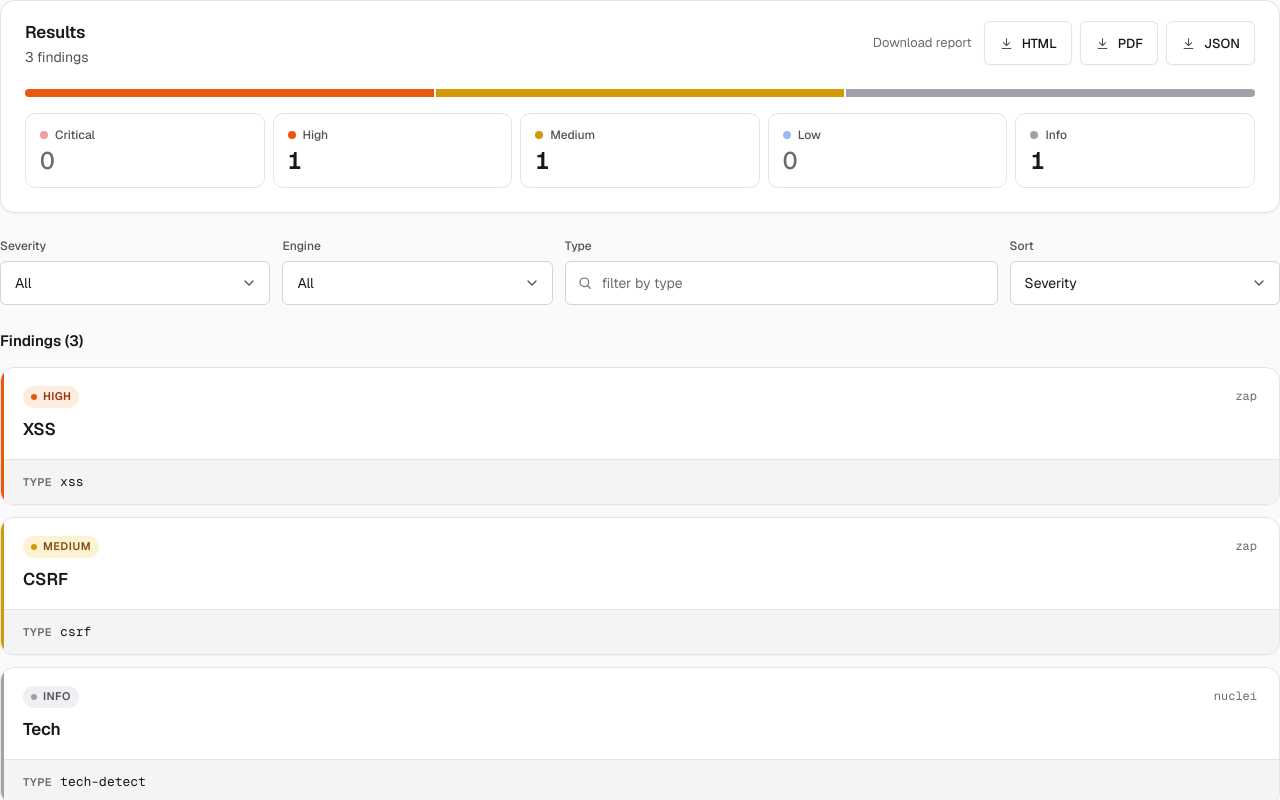
Scenario: ResultsDashboard › filters findings by engine
The image size is (1280, 800).
Select "zap" in the dropdown labelled "Engine" at (418, 283), box [282,261,553,305]
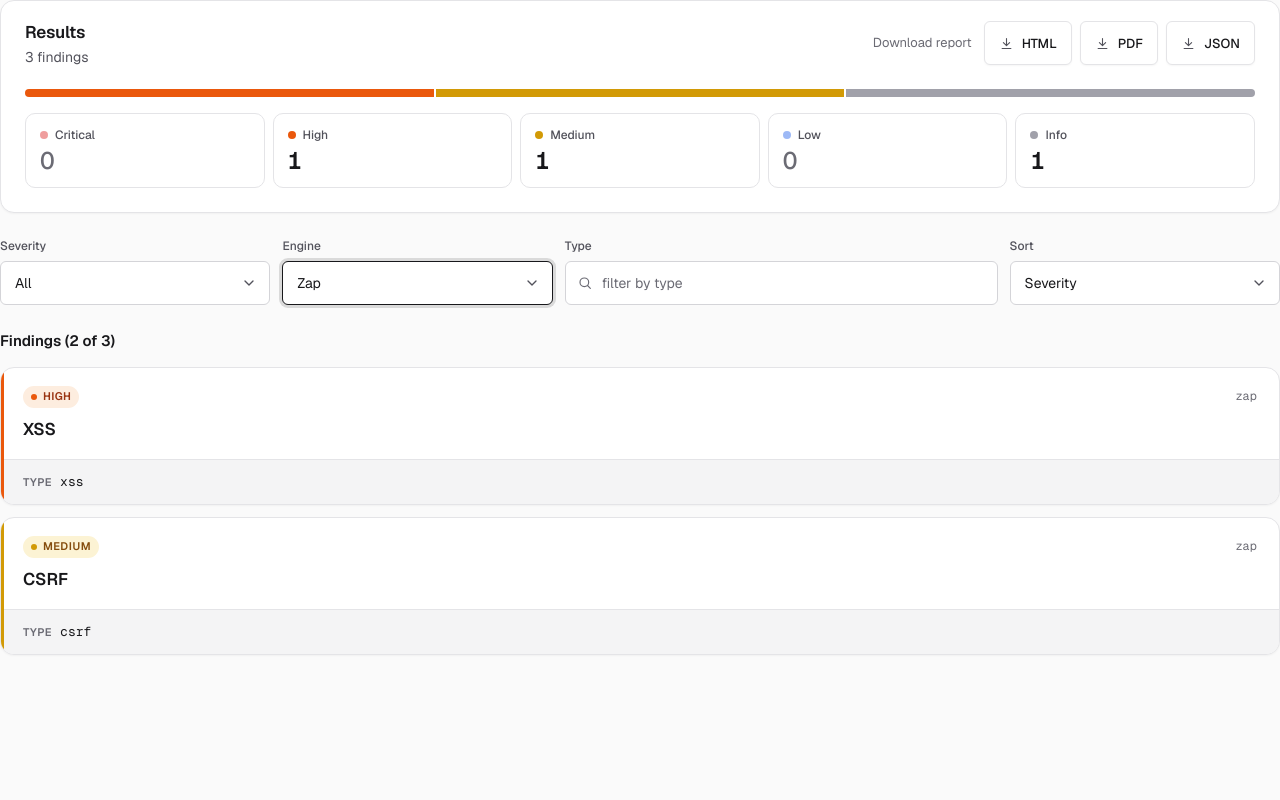
Expected: the heading "Findings (2 of 3)" is shown, [0,331,115,350]
